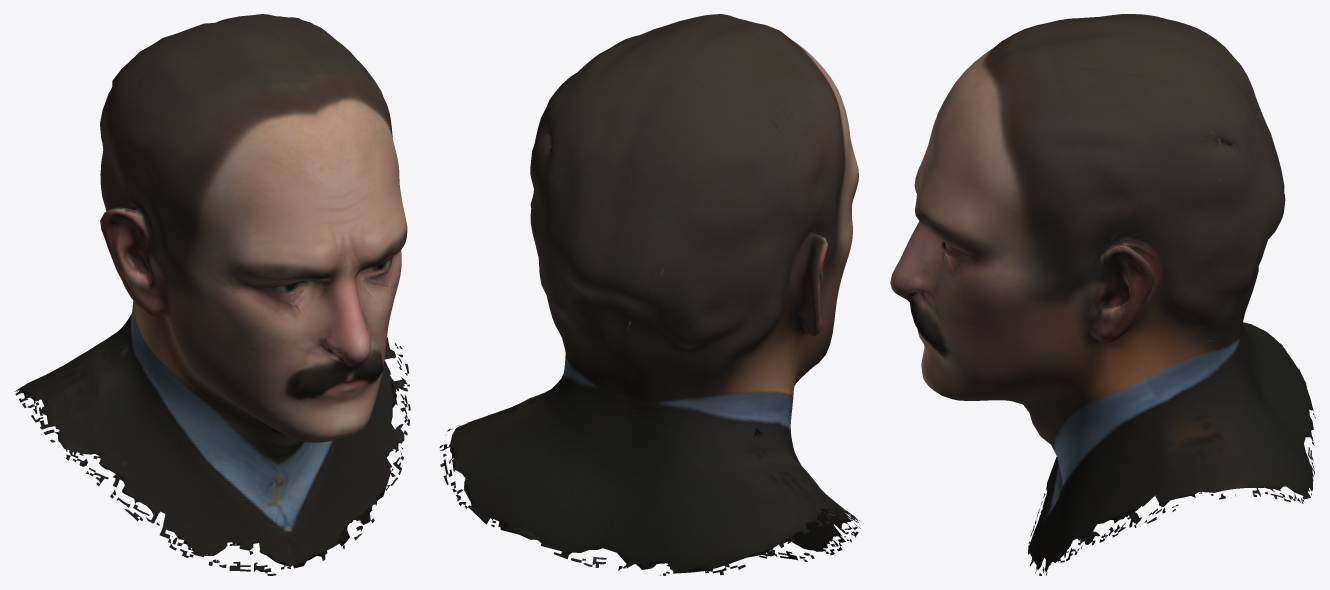
The model's file is morfleps-busto.glb.
The picture shows the model from 3 angles, left to right: view 1: azimuth 30°, elevation 25°; view 2: azimuth 150°, elevation 25°; view 3: azimuth 270°, elevation 25°; orthographic projection. The views are drawn at different scales.
Bounding box in the file's own units: 1.46 × 1.97 × 1.45.
1 material, 1 textured.
